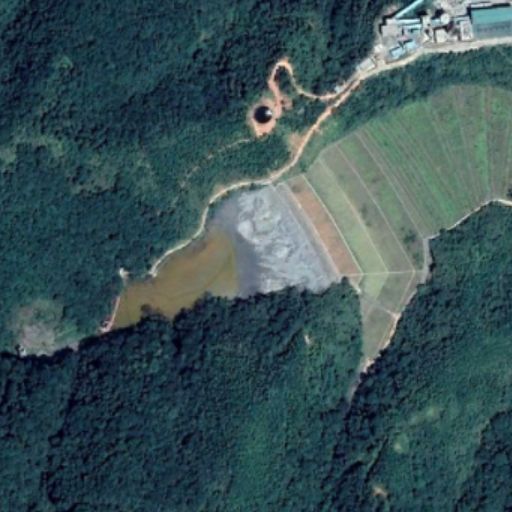tp: (100, 173, 361, 370)
